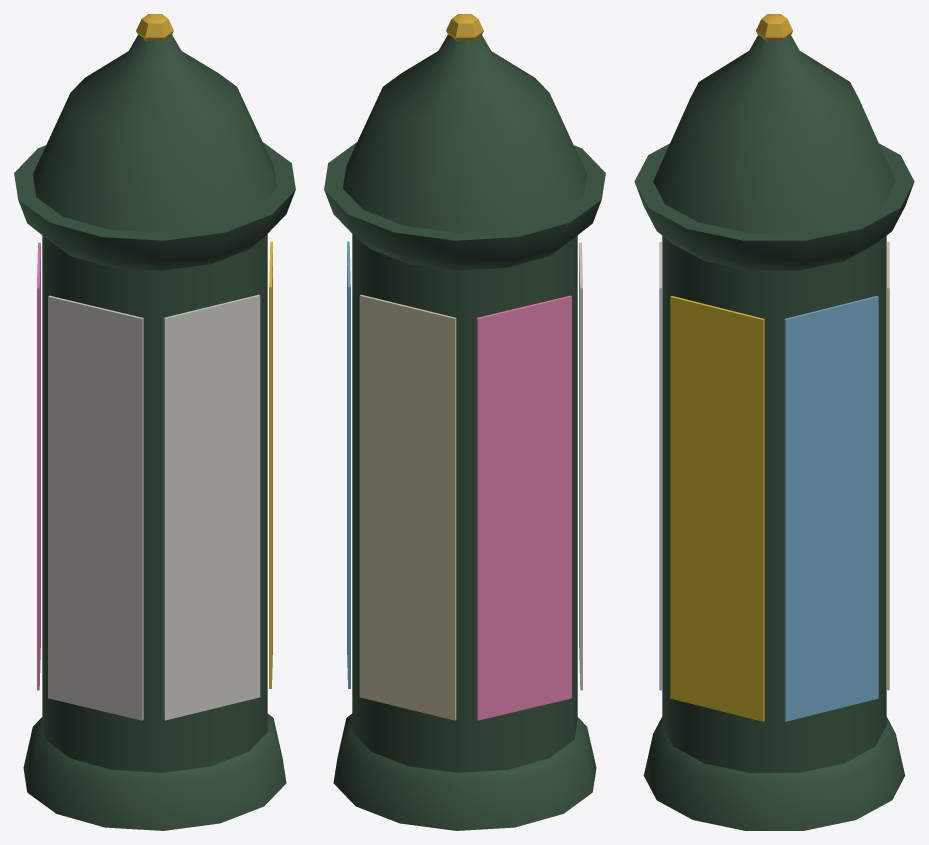
File: 158_colonne_morris.fbx
3 views of the same model, side by side, from view 1: azimuth 30°, elevation 25°; view 2: azimuth 150°, elevation 25°; view 3: azimuth 270°, elevation 25° (orthographic).
Parts seen in each view (by area): view 1: Colonne, Affiches; view 2: Colonne, Affiches; view 3: Colonne, Affiches.
Boxes of the visible parts, box(x1,y1,x2,y2) form: Colonne: box(14, 14, 295, 830); Affiches: box(37, 241, 272, 720); Colonne: box(324, 14, 605, 830); Affiches: box(347, 241, 582, 720); Colonne: box(634, 14, 914, 830); Affiches: box(659, 242, 889, 721).
Size of the model in its own units: 0.84 by 2.52 by 0.84.
Materials: 1 (1 with a texture image).
